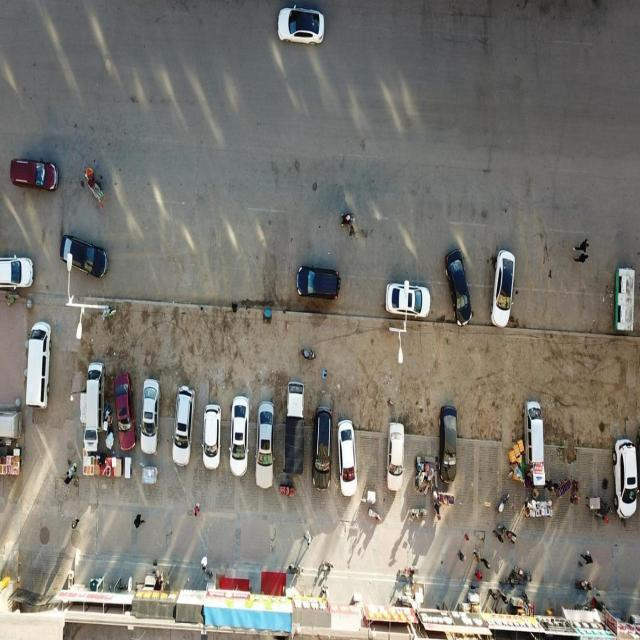p3rson: (572, 239, 588, 253), (574, 251, 588, 265), (491, 529, 504, 544), (581, 550, 594, 564), (134, 512, 145, 528), (498, 588, 508, 605), (302, 530, 312, 546), (481, 554, 490, 570), (343, 213, 353, 227), (456, 549, 466, 563), (200, 553, 207, 572), (65, 467, 74, 481), (544, 481, 554, 493), (71, 516, 79, 530), (156, 568, 163, 584), (488, 586, 496, 600), (288, 560, 297, 572), (473, 549, 481, 561), (475, 568, 482, 581), (193, 504, 199, 518)
